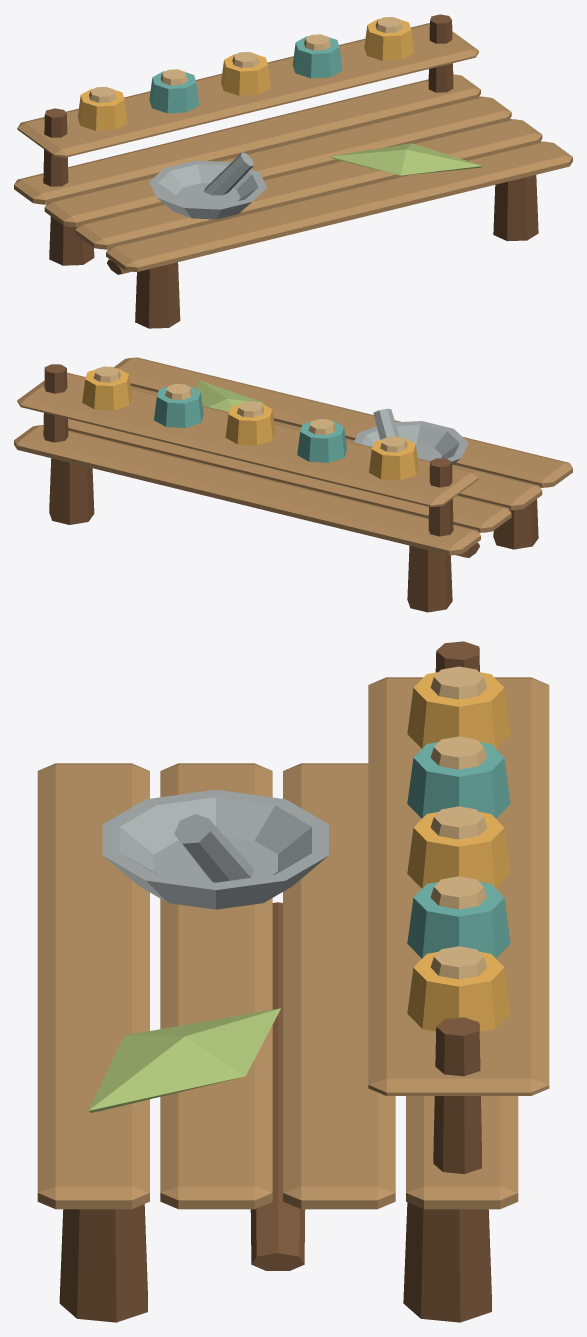
Rendered from CC_Apothecary.fbx.
The picture shows the model from 3 angles, top to bottom: view 1: azimuth 30°, elevation 25°; view 2: azimuth 150°, elevation 25°; view 3: azimuth 270°, elevation 25°; orthographic projection. The views are drawn at different scales.
Visible parts, largest first — view 1: Plank.008, Medicine shelf, Plank.011, Plank.010, Plank.009, Mortar, Herb, Leg.008, Leg.010, Medicine jar.003, Medicine jar.006, Medicine jar.005 (+6 smaller); view 2: Plank.011, Medicine shelf, Plank.008, Plank.010, Leg.009, Leg.011, Mortar, Plank.009, Leg.008, Medicine jar.006, Medicine jar.002, Medicine jar.003 (+11 smaller); view 3: Plank.008, Medicine shelf, Plank.010, Plank.009, Mortar, Herb, Leg.011, Leg.010, Plank.011, Brace.002, Shelf post.001, Medicine jar.006 (+11 smaller).
Boxes of the visible parts, x1,y1,x2,y2 form: Plank.008: [106, 141, 572, 271]; Medicine shelf: [17, 23, 478, 157]; Plank.011: [14, 74, 480, 204]; Plank.010: [44, 96, 511, 226]; Plank.009: [75, 119, 542, 249]; Mortar: [149, 160, 267, 219]; Herb: [330, 143, 482, 175]; Leg.008: [135, 262, 180, 328]; Leg.010: [493, 175, 538, 241]; Medicine jar.003: [149, 71, 199, 113]; Medicine jar.006: [364, 19, 414, 60]; Medicine jar.005: [292, 36, 342, 78]; Plank.011: [14, 425, 480, 555]; Medicine shelf: [17, 372, 478, 506]; Plank.008: [114, 357, 572, 487]; Plank.010: [68, 418, 511, 532]; Leg.009: [407, 545, 452, 612]; Leg.011: [49, 458, 94, 524]; Mortar: [353, 421, 468, 465]; Plank.009: [130, 386, 542, 510]; Leg.008: [493, 499, 538, 549]; Medicine jar.006: [82, 368, 131, 410]; Medicine jar.002: [369, 438, 418, 480]; Medicine jar.003: [297, 421, 346, 462]; Plank.008: [37, 763, 149, 1209]; Medicine shelf: [368, 677, 549, 1095]; Plank.010: [283, 763, 395, 1209]; Plank.009: [160, 763, 272, 1209]; Mortar: [102, 789, 328, 909]; Herb: [88, 1008, 280, 1112]; Leg.011: [403, 1202, 491, 1322]; Leg.010: [59, 1204, 147, 1322]; Plank.011: [406, 1096, 518, 1209]; Brace.002: [250, 902, 305, 1270]; Shelf post.001: [433, 1017, 481, 1173]; Medicine jar.006: [407, 951, 510, 1031].
Bounding box in the file's own units: 3 × 0.9907 × 1.49.
